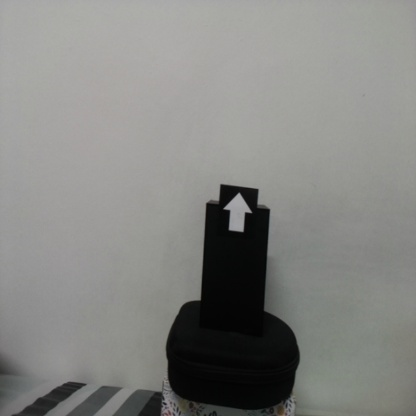id_1: (221, 186, 258, 243)
